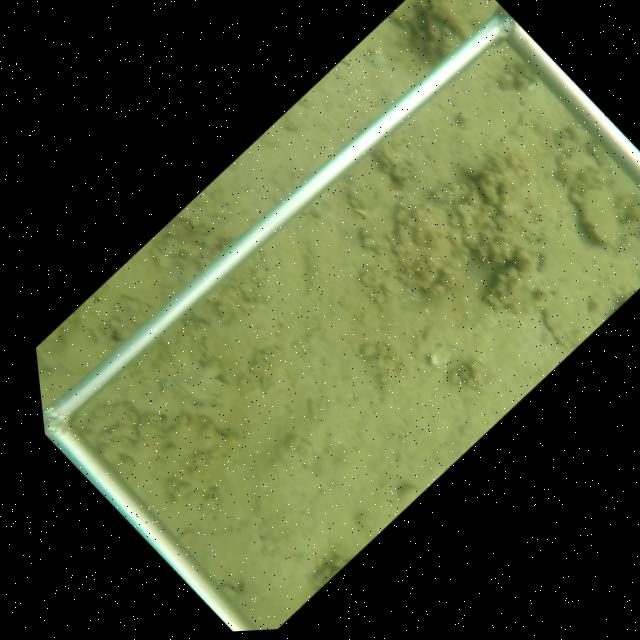Oyster-Indeterminate: (574, 185, 619, 253)
